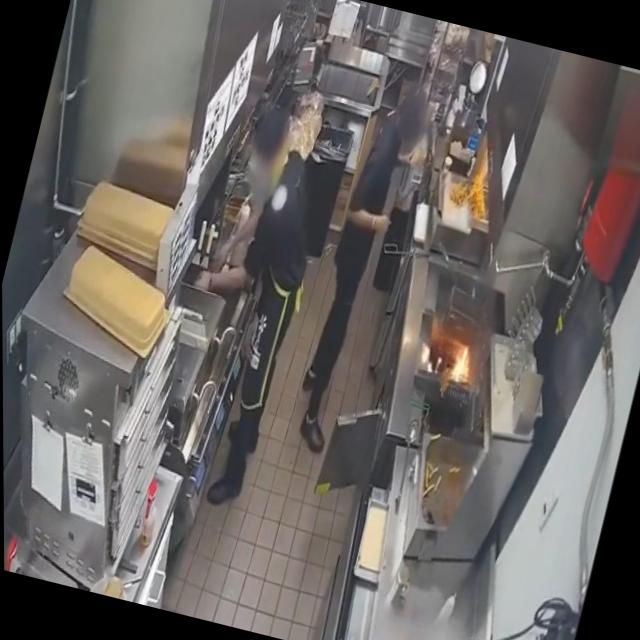fire: (444, 341, 477, 384)
